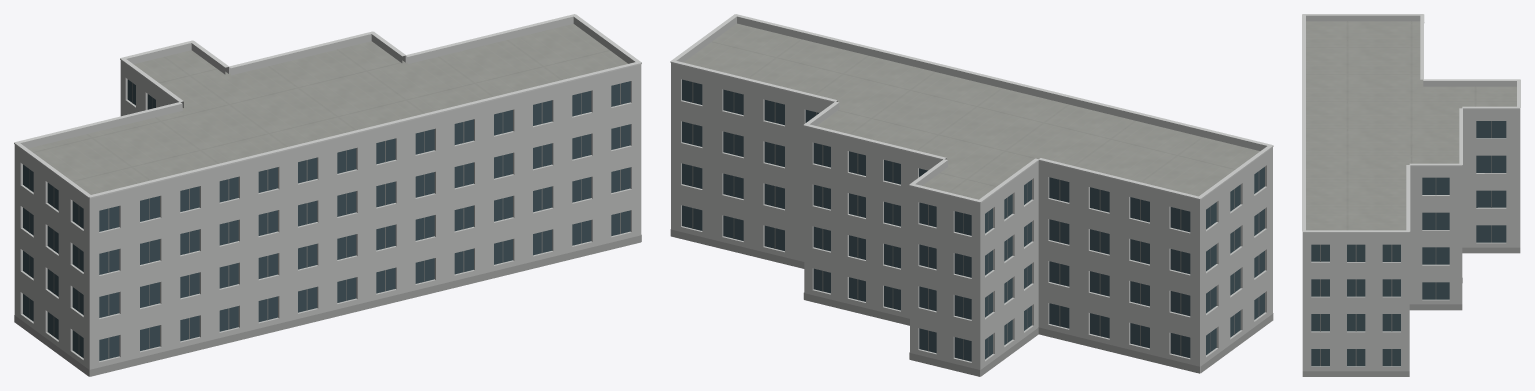
3 views of the same model, side by side, from view 1: azimuth 30°, elevation 25°; view 2: azimuth 150°, elevation 25°; view 3: azimuth 270°, elevation 25° (orthographic). The views are drawn at different scales.
Parts seen in each view (by area): view 1: songhyunSquare__wall, songhyunSquare__roof, songhyunSquare__glass, songhyunSquare__parapet, songhyunSquare__trim, songhyunSquare__base, songhyunSquare__frame; view 2: songhyunSquare__wall, songhyunSquare__roof, songhyunSquare__glass, songhyunSquare__parapet, songhyunSquare__trim, songhyunSquare__base, songhyunSquare__frame; view 3: songhyunSquare__roof, songhyunSquare__wall, songhyunSquare__glass, songhyunSquare__trim, songhyunSquare__parapet, songhyunSquare__base, songhyunSquare__frame.
Boxes of the visible parts, box(x1,y1,x2,y2) form: songhyunSquare__wall: box(14, 66, 641, 376); songhyunSquare__roof: box(28, 24, 627, 194); songhyunSquare__glass: box(23, 79, 630, 360); songhyunSquare__parapet: box(14, 16, 641, 204); songhyunSquare__trim: box(14, 14, 641, 198); songhyunSquare__base: box(14, 235, 641, 376); songhyunSquare__frame: box(29, 83, 620, 358); songhyunSquare__wall: box(671, 68, 1272, 376); songhyunSquare__roof: box(684, 23, 1259, 199); songhyunSquare__glass: box(682, 79, 1264, 361); songhyunSquare__parapet: box(671, 16, 1272, 208); songhyunSquare__trim: box(670, 14, 1273, 203); songhyunSquare__base: box(670, 229, 1273, 376); songhyunSquare__frame: box(692, 82, 1259, 359); songhyunSquare__roof: box(1306, 21, 1516, 230); songhyunSquare__wall: box(1302, 114, 1520, 371); songhyunSquare__glass: box(1311, 121, 1506, 366); songhyunSquare__trim: box(1302, 14, 1520, 232); songhyunSquare__parapet: box(1302, 15, 1520, 237); songhyunSquare__base: box(1302, 247, 1520, 376); songhyunSquare__frame: box(1320, 121, 1491, 366).
Size of the model in its own units: 48.37 by 15 by 20.51.
7 materials, 1 textured.
